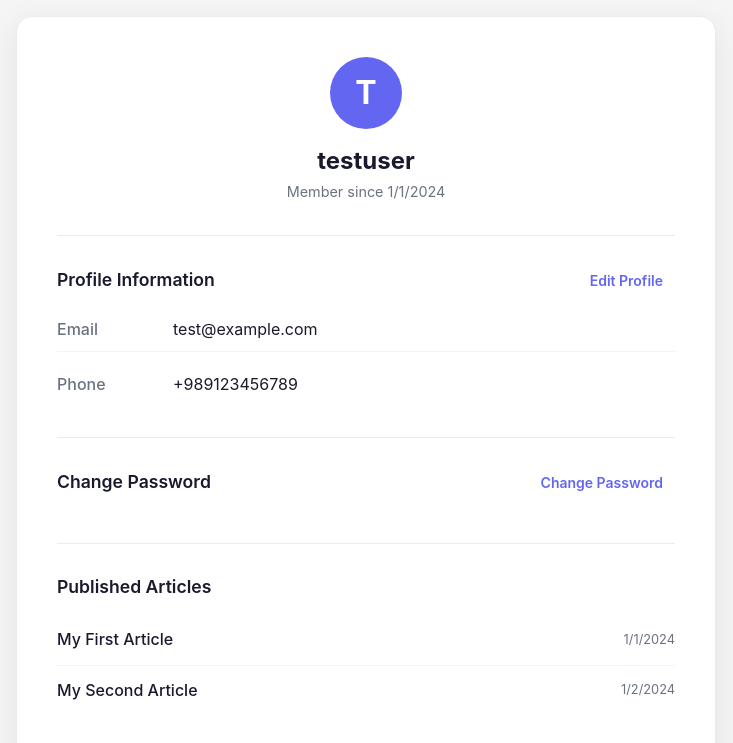
Test: ProfilePage › Profile Editing › should show validation error for invalid email
Expected: the text "test@example.com" is shown, [173, 317, 318, 343]
Click the button "Edit Profile" at x=626, y=281, box [578, 268, 675, 293]
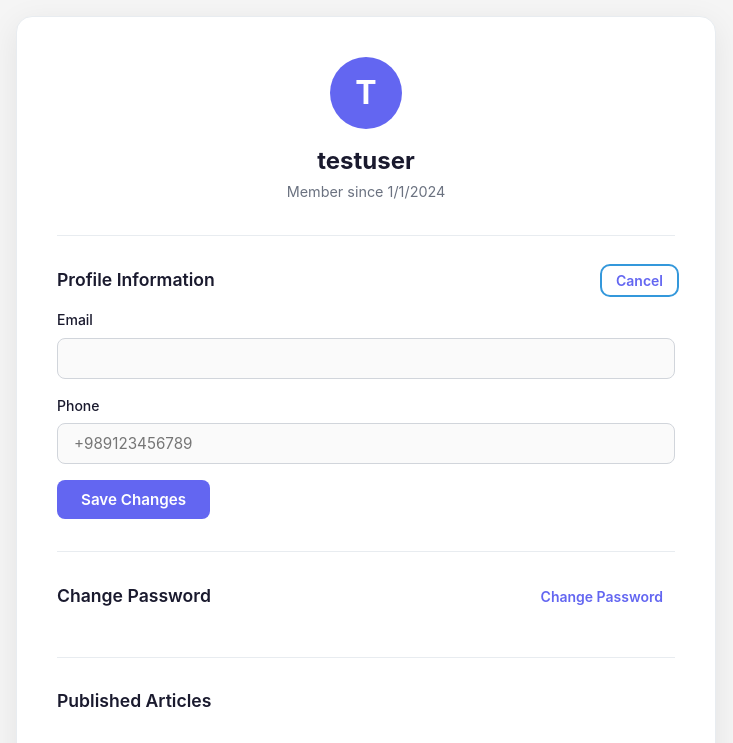
Type "invalid-email" into the field labelled "Email" at x=366, y=358, box [57, 338, 675, 379]
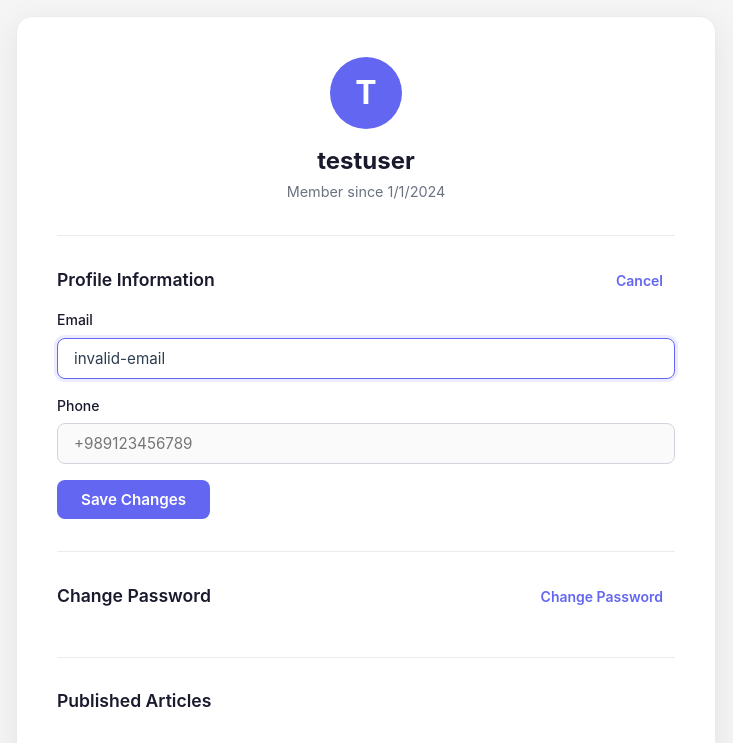
Press Tab
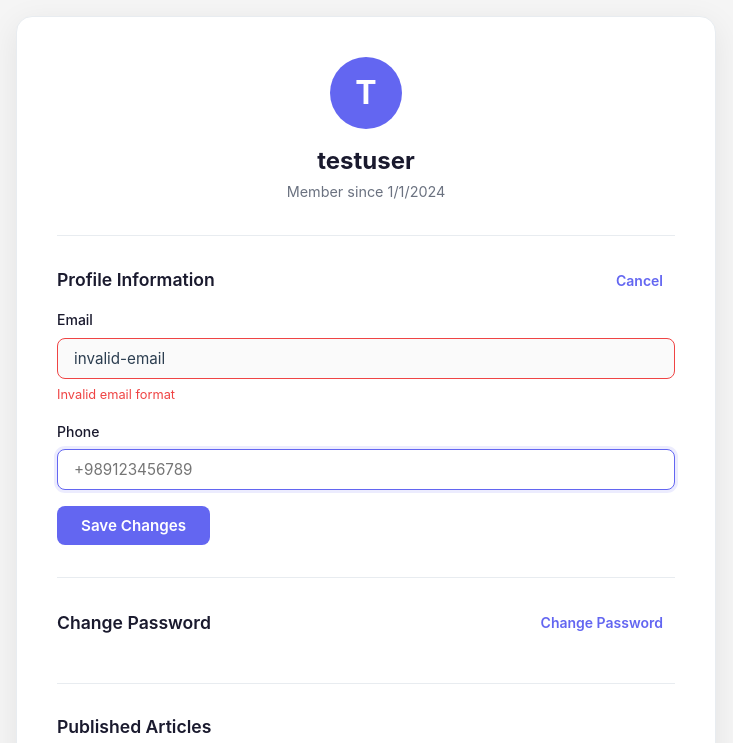
Now the text "Invalid email format" is shown, box [57, 387, 175, 402]
